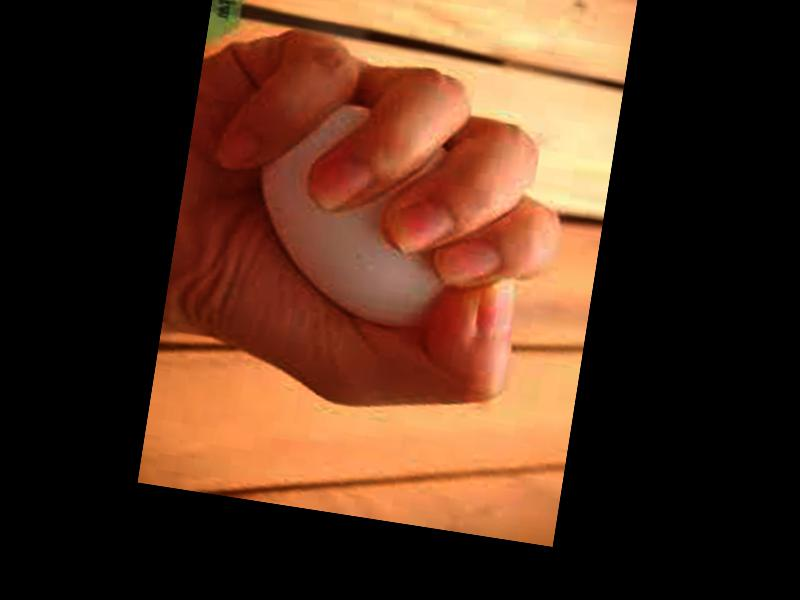Eggs: (241, 89, 492, 336)
